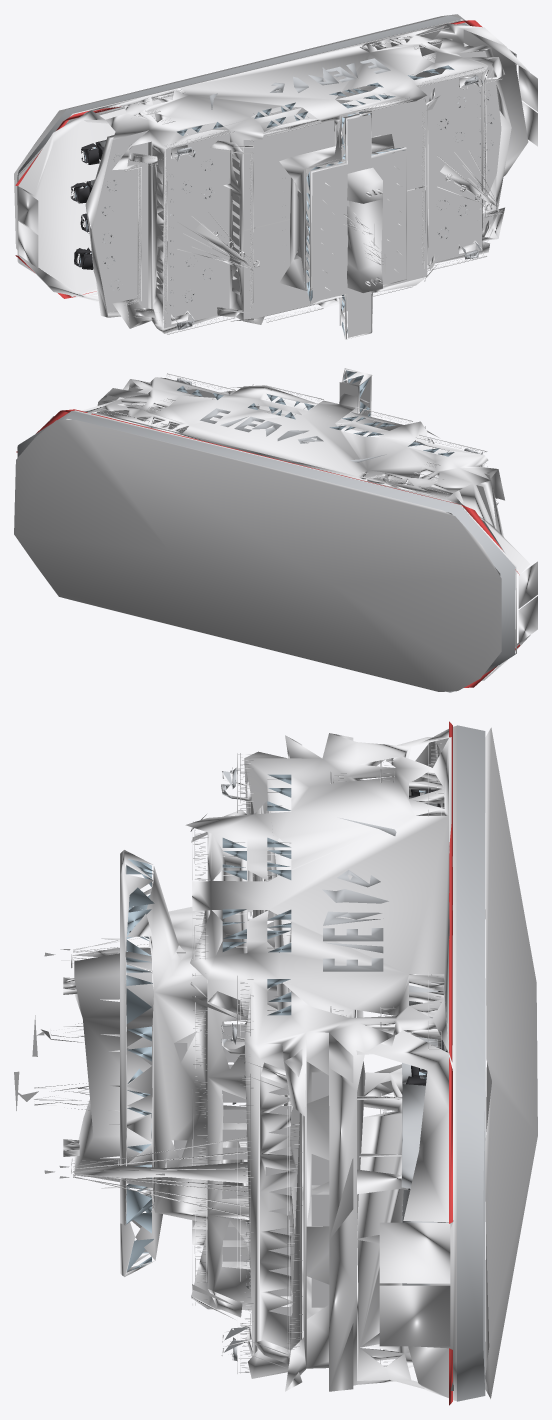
File: archmodels55-28.glb
3 views of the same model, one above another, from view 1: azimuth 30°, elevation 25°; view 2: azimuth 150°, elevation 25°; view 3: azimuth 270°, elevation 25° (orthographic). The views are drawn at different scales.
Parts seen in each view (by area): view 1: Archmodels55_28_chairs1; view 2: Archmodels55_28_chairs1; view 3: Archmodels55_28_chairs1.
Boxes of the visible parts, <box> form: Archmodels55_28_chairs1: <box>14,14,537,339</box>; Archmodels55_28_chairs1: <box>14,368,537,692</box>; Archmodels55_28_chairs1: <box>14,721,537,1405</box>.
Bounding box in the file's own units: 86.87 × 36.56 × 43.03.
